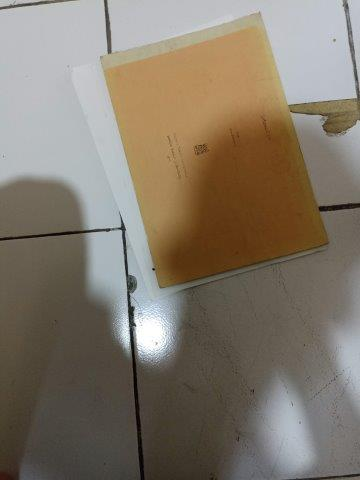kertas: (69, 11, 330, 300)
